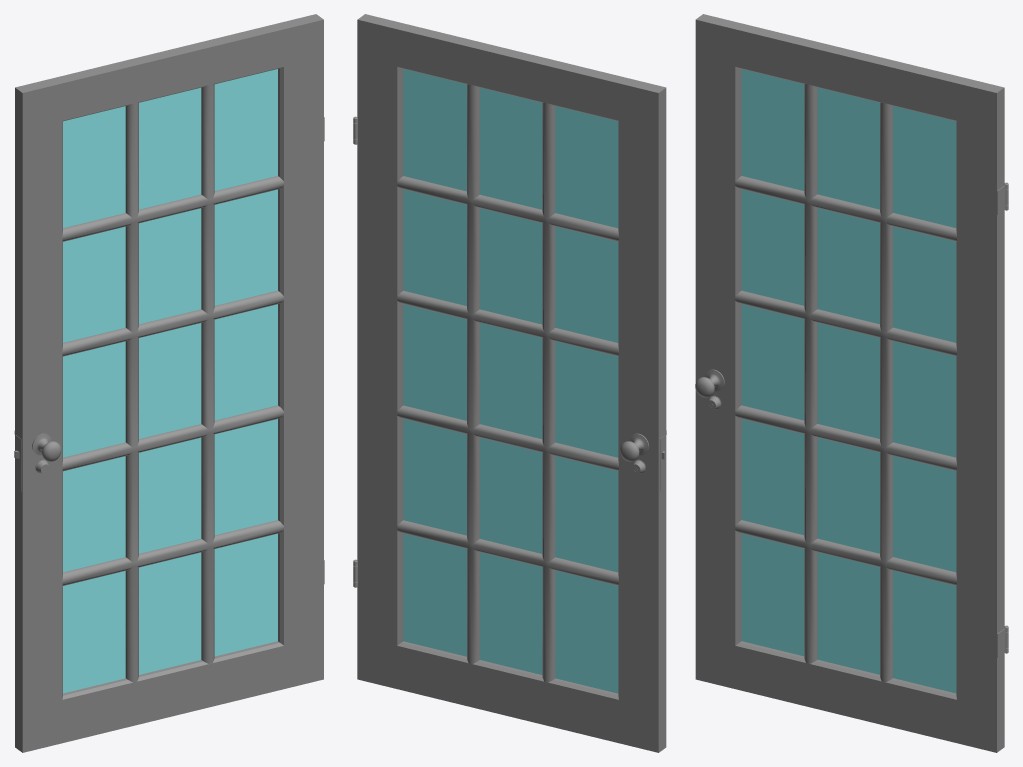
File: Door_mesh_B_L.FBX
3 renders of one model, left to right at view 1: azimuth 30°, elevation 25°; view 2: azimuth 150°, elevation 25°; view 3: azimuth 330°, elevation 25°, orthographic.
Visible parts, largest first — view 1: Door_mesh_B_L, Windowglass_A; view 2: Door_mesh_B_L, Windowglass_A; view 3: Door_mesh_B_L, Windowglass_A.
Boxes of the visible parts, box(x1,y1,x2,y2) form: Door_mesh_B_L: box(14, 14, 324, 752); Windowglass_A: box(63, 69, 277, 693); Door_mesh_B_L: box(353, 14, 666, 752); Windowglass_A: box(403, 69, 618, 693); Door_mesh_B_L: box(695, 14, 1008, 752); Windowglass_A: box(741, 69, 956, 693).
Size of the model in its own units: 105 by 216 by 19.99.
